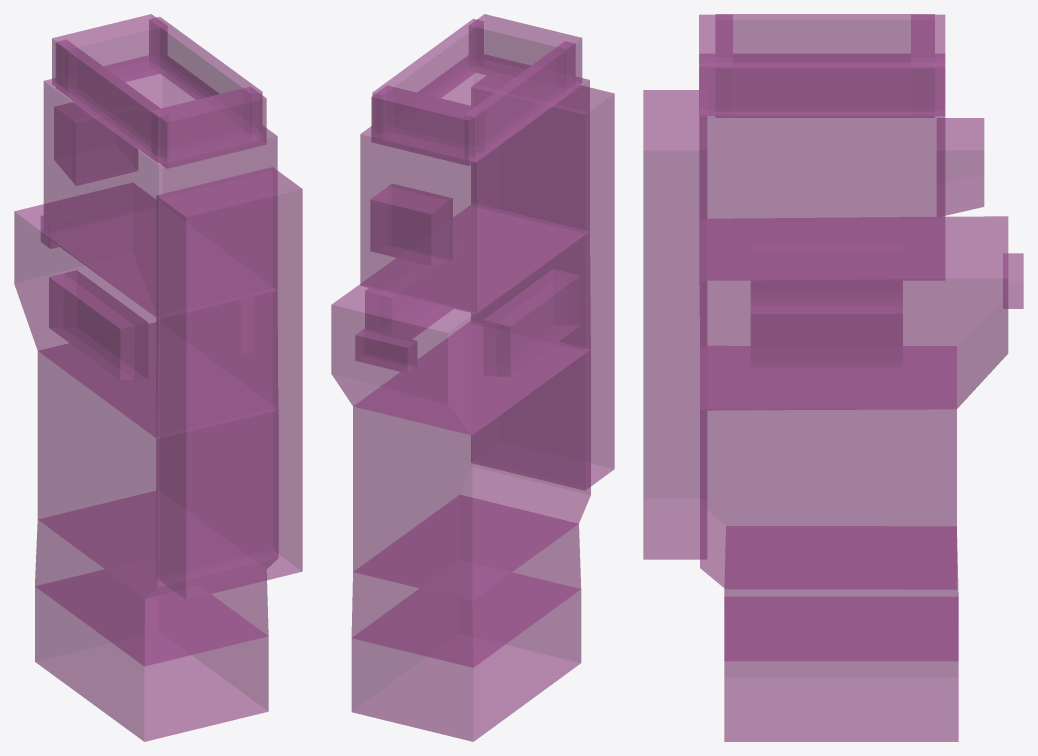
File: SM_Bld_Background_Building_01_Collision.fbx
3 views of the same model, side by side, from view 1: azimuth 30°, elevation 25°; view 2: azimuth 150°, elevation 25°; view 3: azimuth 270°, elevation 25° (orthographic). The views are drawn at different scales.
Parts seen in each view (by area): view 1: SM_Bld_Background_Building_01_Collision; view 2: SM_Bld_Background_Building_01_Collision; view 3: SM_Bld_Background_Building_01_Collision.
Part boxes in pixels (x1,y1,x2,y2): SM_Bld_Background_Building_01_Collision: [14, 14, 302, 741]; SM_Bld_Background_Building_01_Collision: [331, 14, 614, 741]; SM_Bld_Background_Building_01_Collision: [643, 14, 1023, 741].
Bounding box in the file's own units: 1560 × 6277 × 3239.
